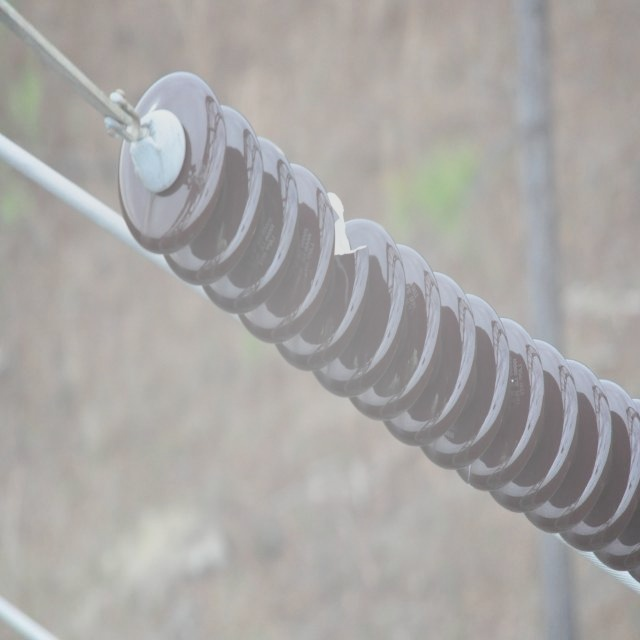broken: (326, 186, 368, 258)
insulator: (117, 70, 640, 580)
